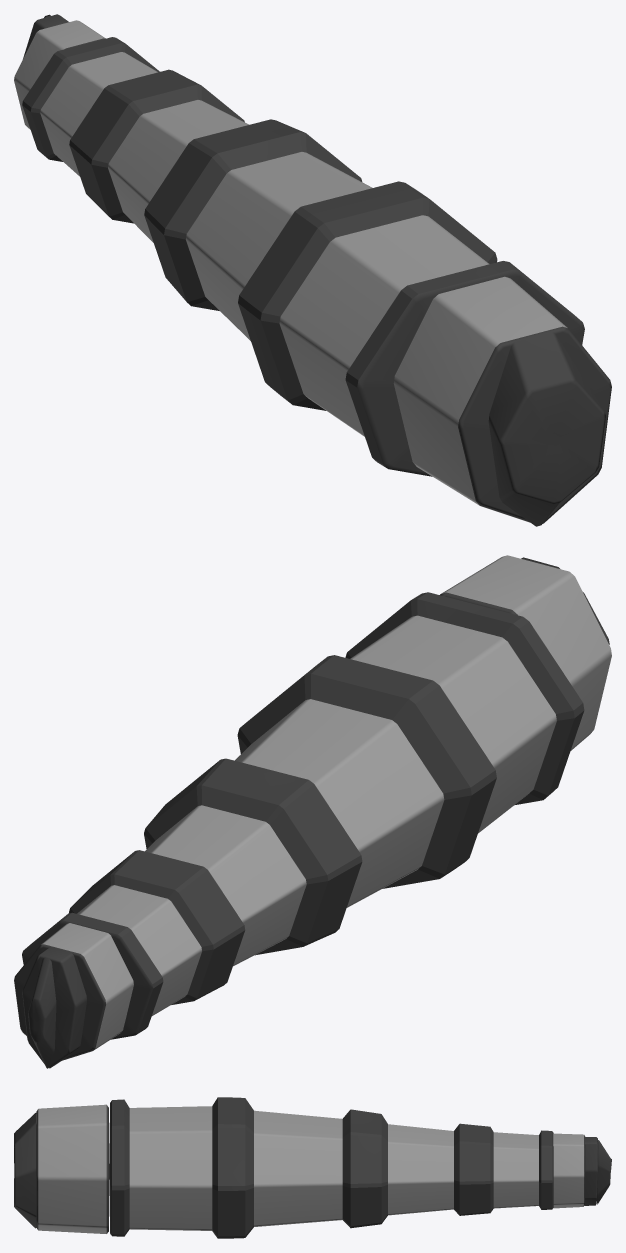
File: missle.fbx
The picture shows the model from 3 angles, top to bottom: view 1: azimuth 30°, elevation 25°; view 2: azimuth 150°, elevation 25°; view 3: azimuth 270°, elevation 25°; orthographic projection. The views are drawn at different scales.
Parts seen in each view (by area): view 1: pCylinder7; view 2: pCylinder7; view 3: pCylinder7.
Part boxes in pixels (bbox=[...]): pCylinder7: bbox=[14, 14, 611, 526]; pCylinder7: bbox=[14, 555, 611, 1068]; pCylinder7: bbox=[14, 1097, 611, 1238].
Size of the model in its own units: 201 by 173 by 763.
